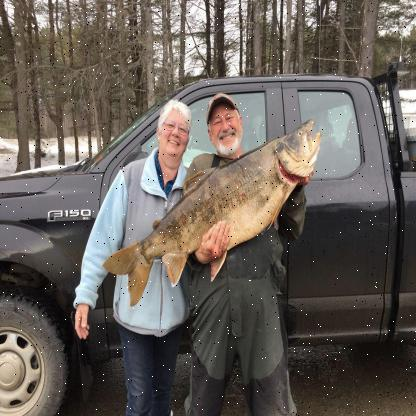fish: (103, 118, 323, 306)
